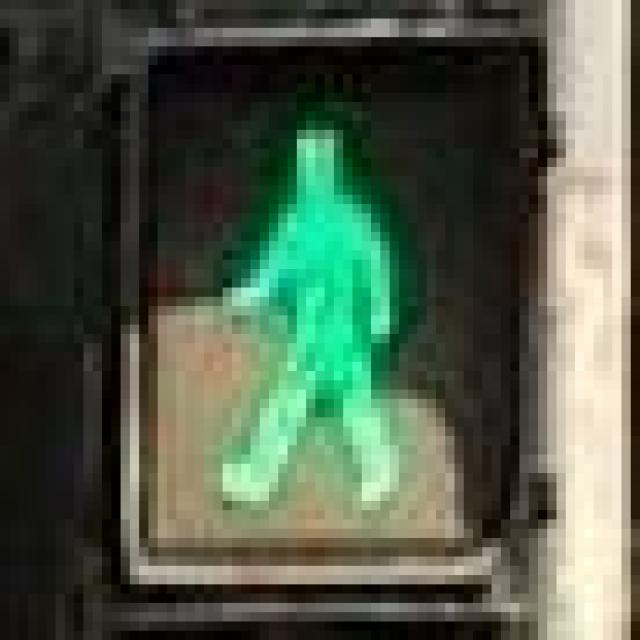geen-crossing: (204, 92, 408, 520)
